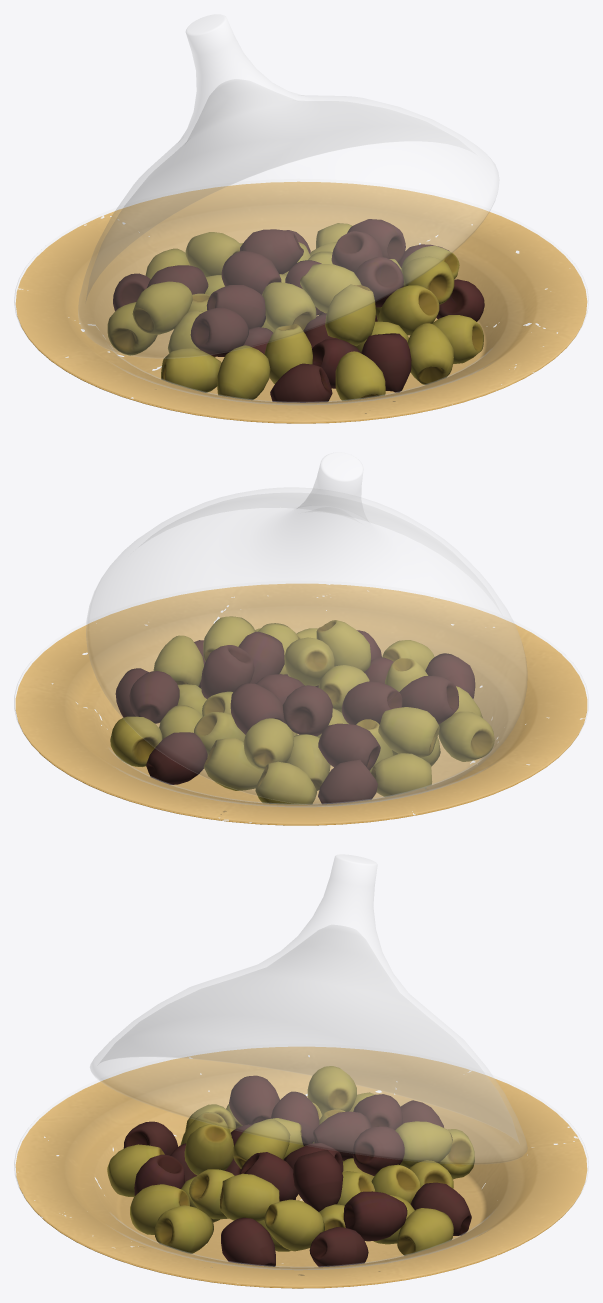
Rendered from IridescentDishWithOlives.glb.
3 views of the same model, one above another, from view 1: azimuth 30°, elevation 25°; view 2: azimuth 150°, elevation 25°; view 3: azimuth 270°, elevation 25° (orthographic).
Parts seen in each view (by area): view 1: glassCover, goldLeaf, glassDish, olives; view 2: glassCover, glassDish, goldLeaf, olives; view 3: glassCover, goldLeaf, olives, glassDish.
Boxes of the visible parts, x1=… form: glassCover: x1=78, y1=14, x2=499, y2=358; goldLeaf: x1=15, y1=181, x2=587, y2=423; glassDish: x1=14, y1=179, x2=588, y2=422; olives: x1=107, y1=219, x2=484, y2=402; glassCover: x1=86, y1=452, x2=527, y2=805; glassDish: x1=14, y1=581, x2=588, y2=824; goldLeaf: x1=15, y1=583, x2=587, y2=825; olives: x1=110, y1=616, x2=494, y2=804; glassCover: x1=90, y1=854, x2=527, y2=1164; goldLeaf: x1=15, y1=1047, x2=587, y2=1288; olives: x1=107, y1=1066, x2=474, y2=1267; glassDish: x1=14, y1=1057, x2=588, y2=1287.
Bounding box in the file's own units: 0.4593 × 0.2855 × 0.4593.
Materials: 4 (2 with a texture image).
